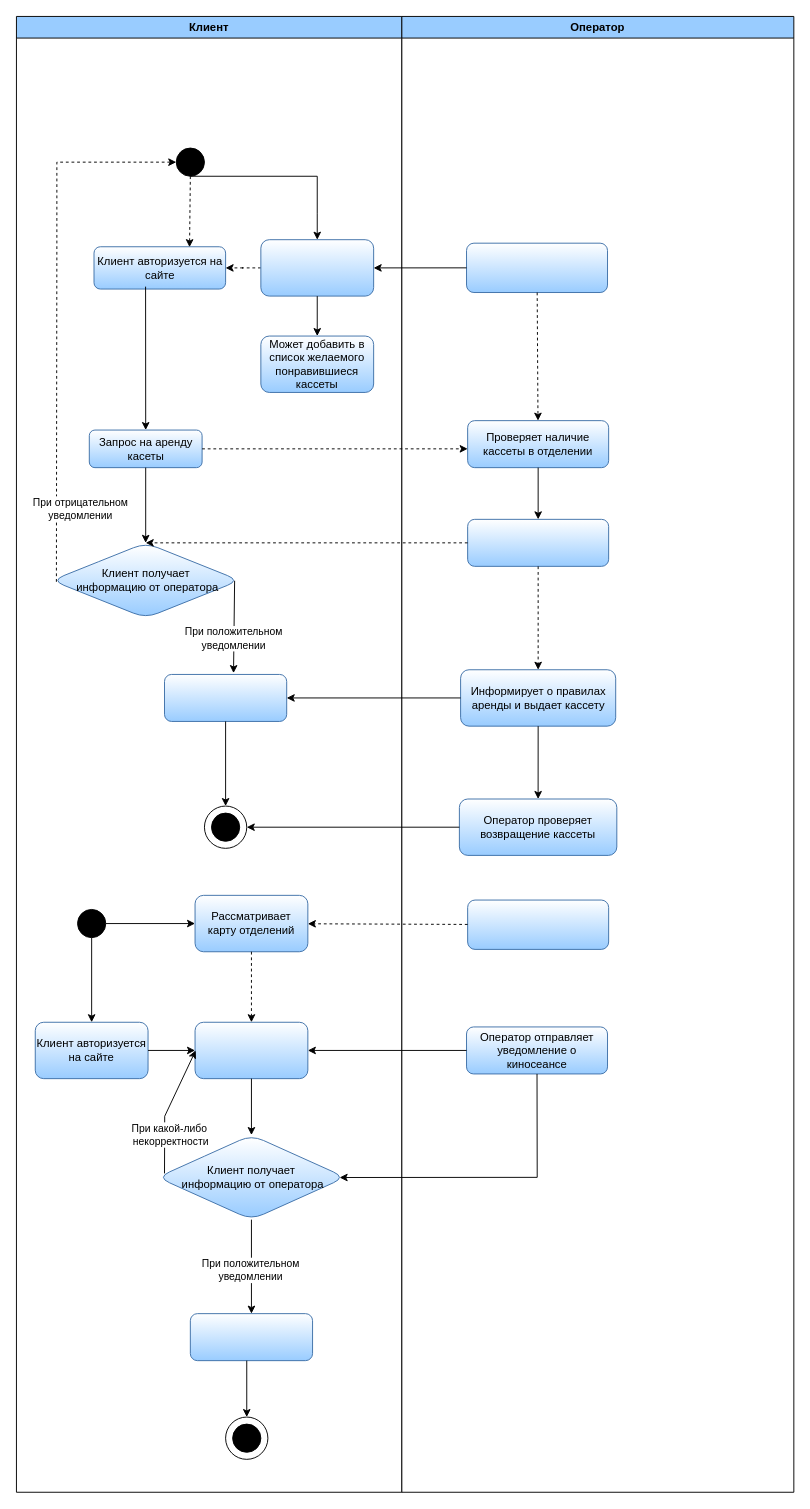
Image size: 810x1509. Some labels were removed from this diagram. The shapes that lost their labels are listed below. From the top down, each one's centre as x and y in pixels, then its label:
(317,267): Рассматривает каталог
(537,267): Размещает информацию о наличии кассет в его отделении
(538,542): Отправляет уведомление клиенту на почту или СМС
(225,697): В рабочее время отделения приходит получить касету
(538,924): Размещает информацию о возможных киносеансах на его точке
(251,1050): Проверяет наличие мест и отправляет запрос на бронь
(251,1337): Приходит к началу сеанса
